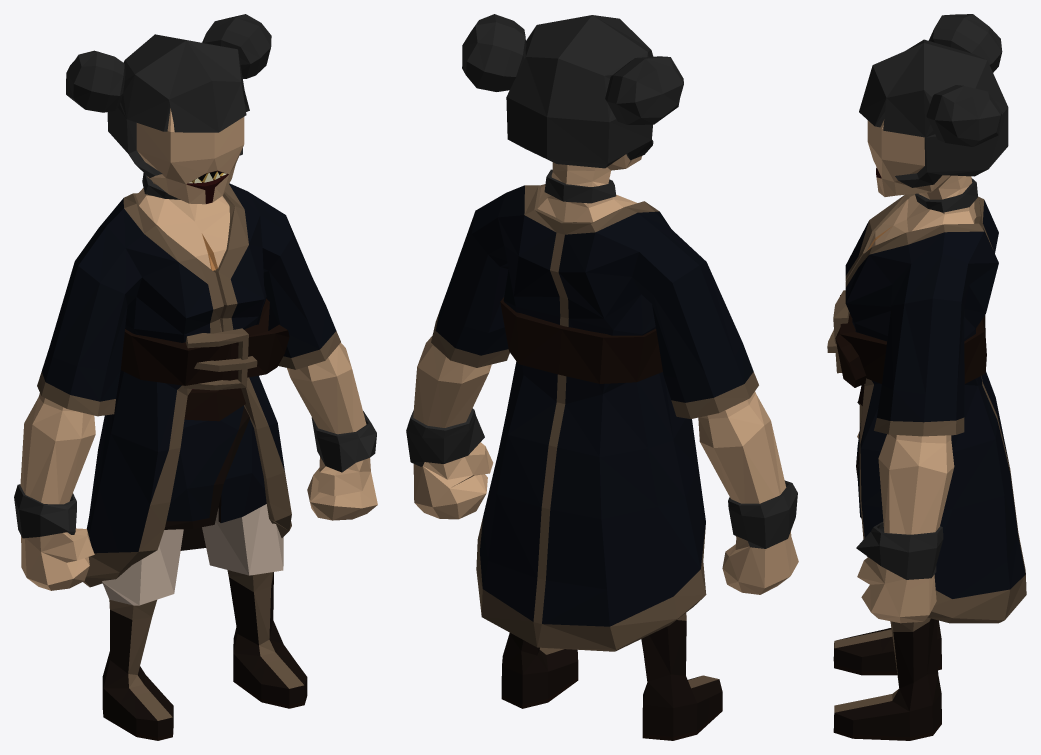
File: VampireIdle0.dae
The picture shows the model from 3 angles, left to right: view 1: azimuth 30°, elevation 25°; view 2: azimuth 150°, elevation 25°; view 3: azimuth 270°, elevation 25°; orthographic projection. The views are drawn at different scales.
Visible parts, largest first — view 1: _0_VAMPIREbase1_01exp_Layer2; view 2: _0_VAMPIREbase1_01exp_Layer2; view 3: _0_VAMPIREbase1_01exp_Layer2.
Part boxes in pixels (x1=…): _0_VAMPIREbase1_01exp_Layer2: x1=14, y1=14, x2=377, y2=740; _0_VAMPIREbase1_01exp_Layer2: x1=406, y1=14, x2=798, y2=740; _0_VAMPIREbase1_01exp_Layer2: x1=827, y1=14, x2=1026, y2=740.
Size of the model in its own units: 5.09 by 2.49 by 9.03.
